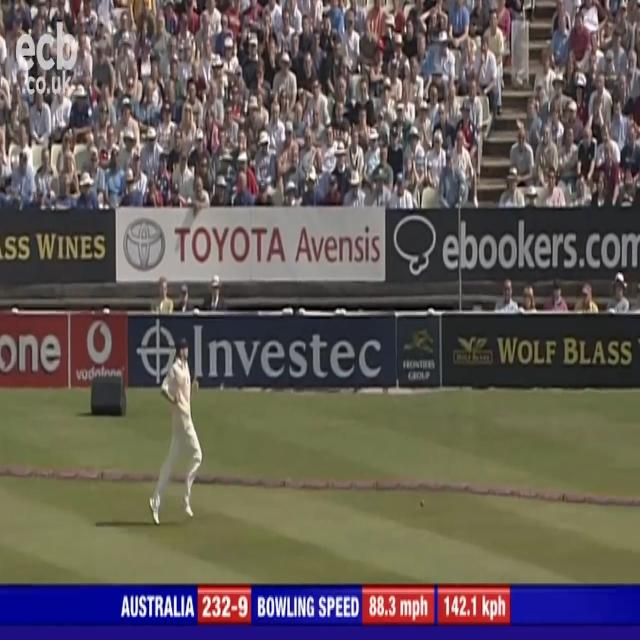ball: (417, 496, 429, 511)
